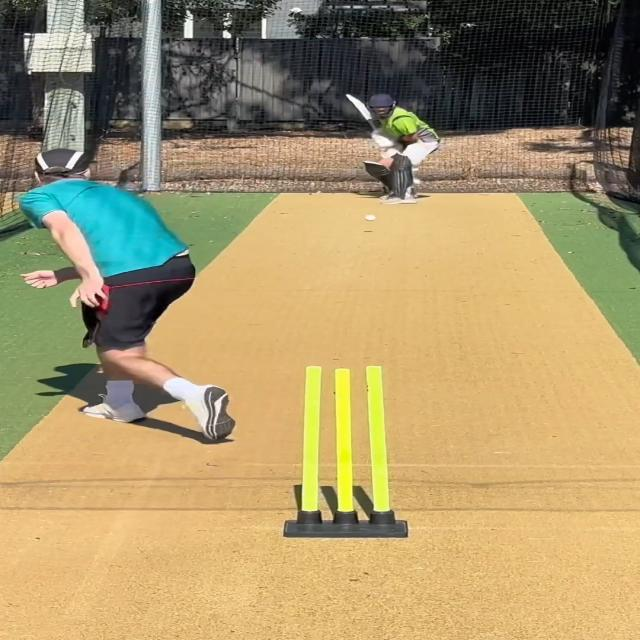ball: (363, 213, 377, 222)
stump: (292, 365, 407, 538)
